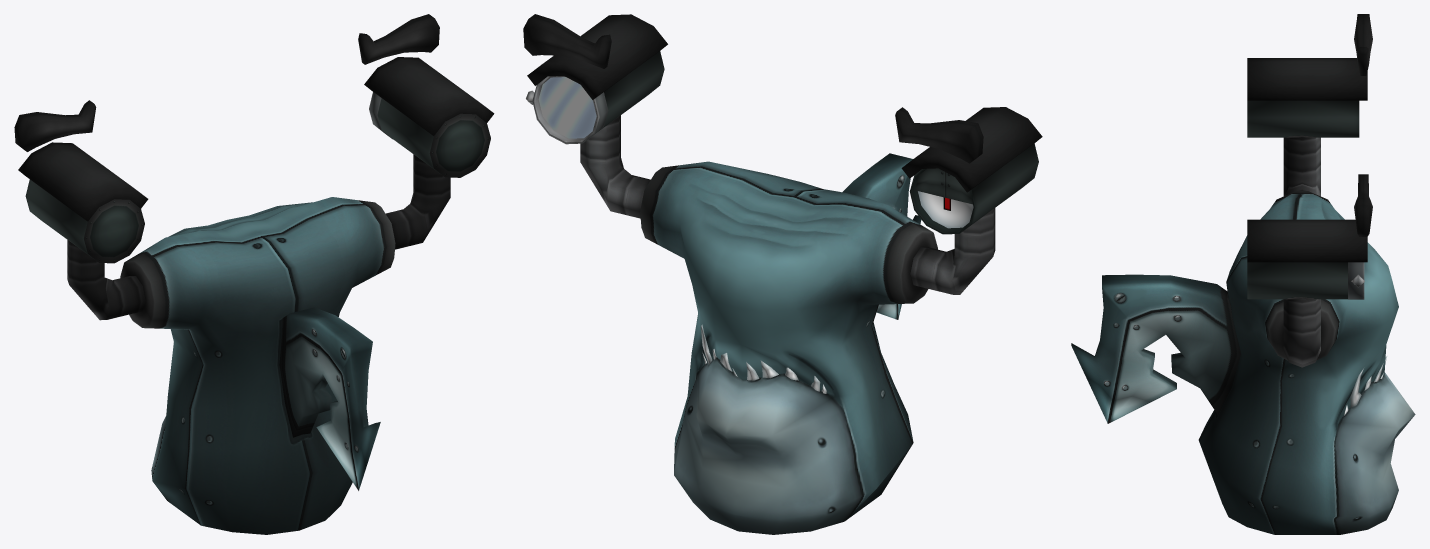
File: sharkwatcher.glb
The picture shows the model from 3 angles, left to right: view 1: azimuth 30°, elevation 25°; view 2: azimuth 150°, elevation 25°; view 3: azimuth 270°, elevation 25°; orthographic projection. The views are drawn at different scales.
Parts seen in each view (by area): view 1: Object.005; view 2: Object.005; view 3: Object.005.
Part boxes in pixels (left/top/right/bottom): Object.005: left=14, top=14, right=494, bottom=534; Object.005: left=523, top=14, right=1042, bottom=534; Object.005: left=1071, top=14, right=1415, bottom=534.
Size of the model in its own units: 2.55 by 2.39 by 1.87.
Materials: 1 (1 with a texture image).
